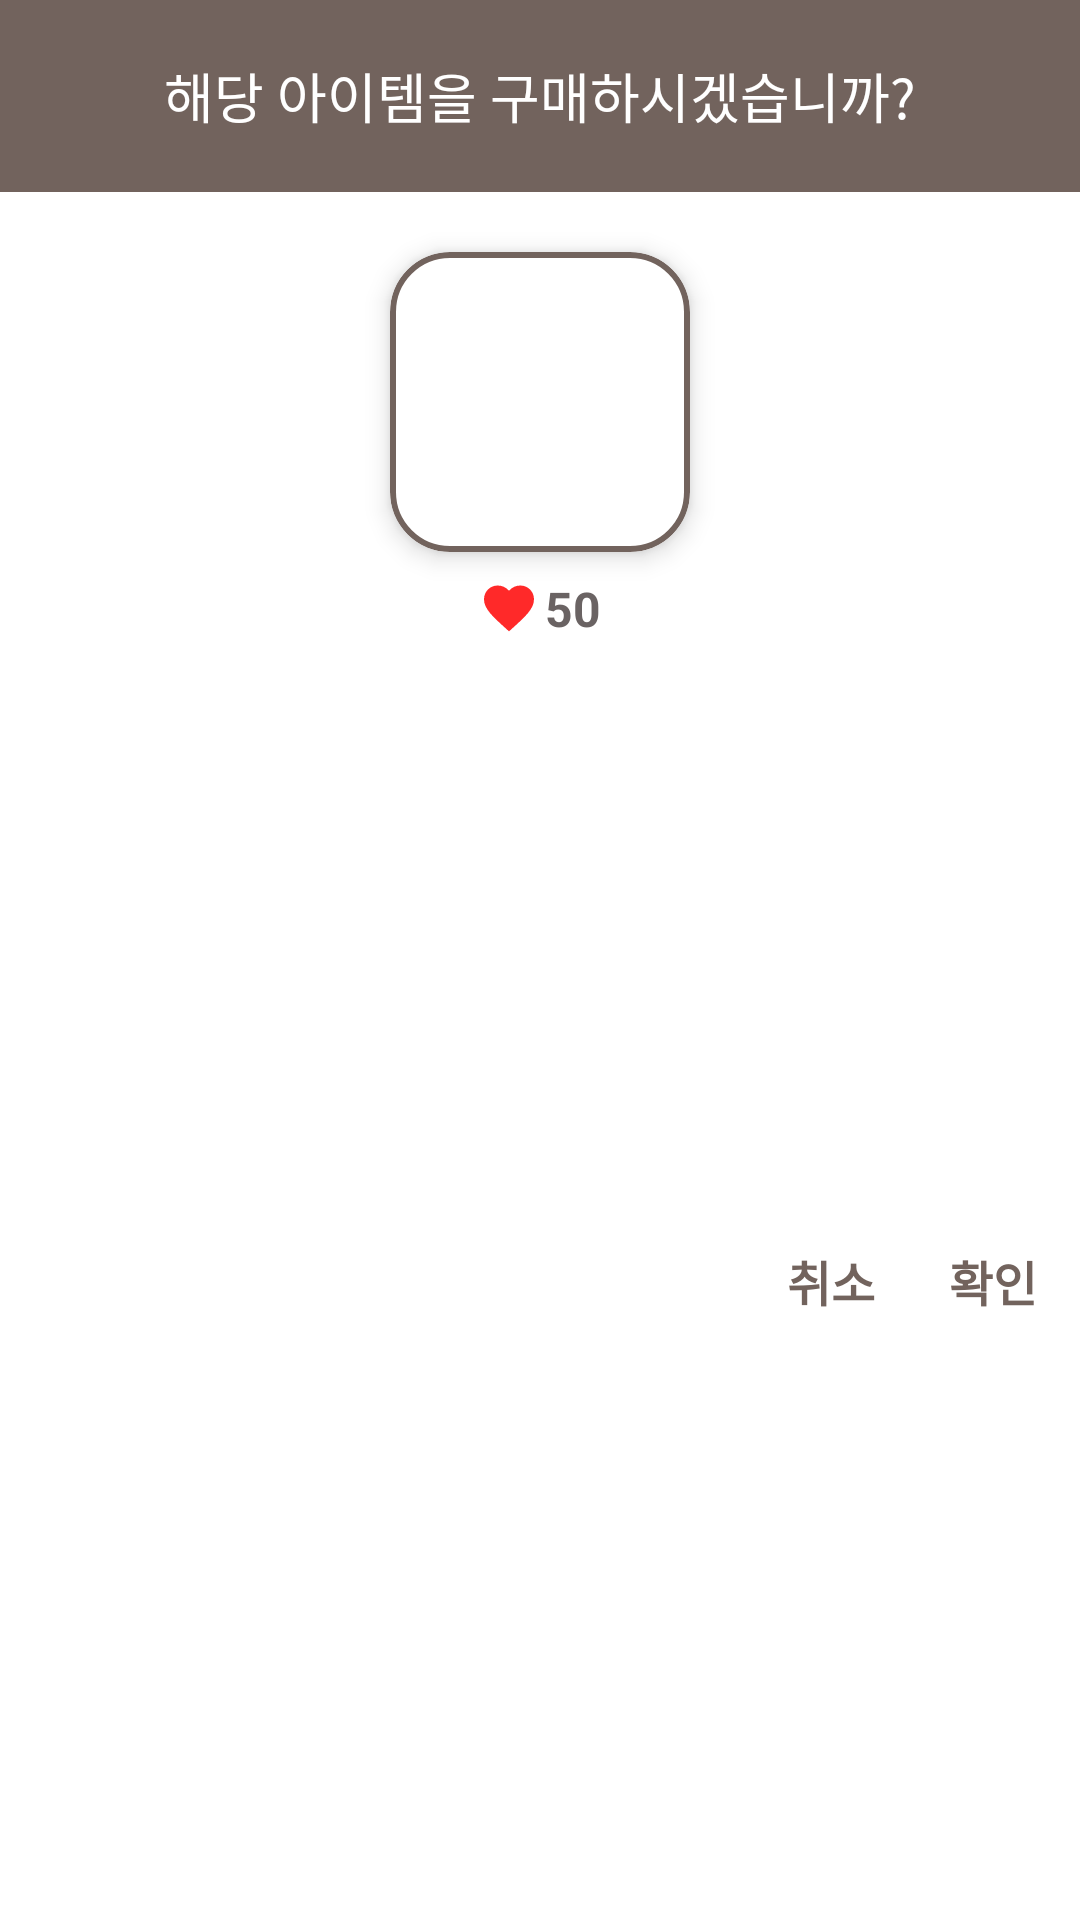

Icon click points for this 1080*1920 phone screenshot, format point (x, y):
favorite: point (509, 608)
